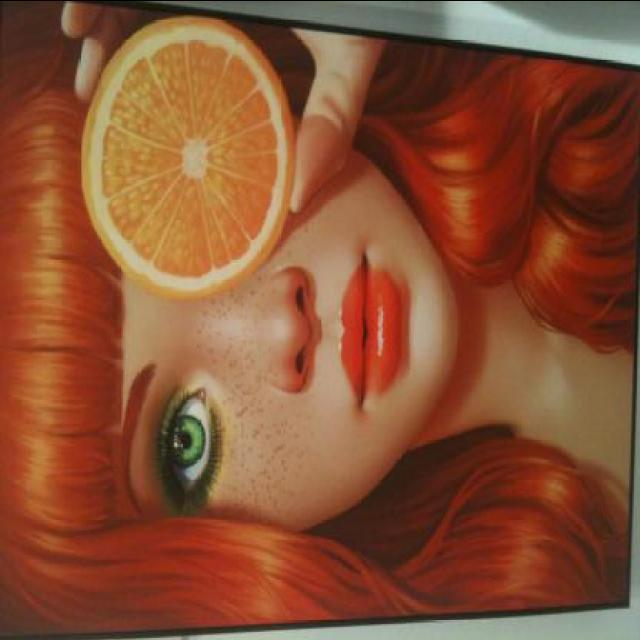Lemon: (80, 14, 297, 298)
